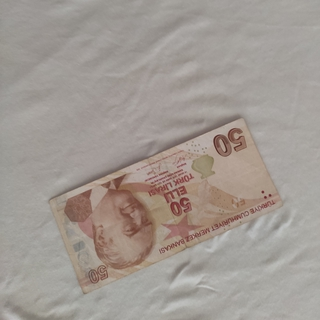50TLFront: (48, 116, 284, 295)
